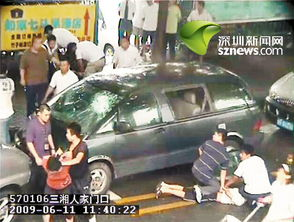10+: (2, 1, 294, 215)
down: (154, 177, 249, 209)
